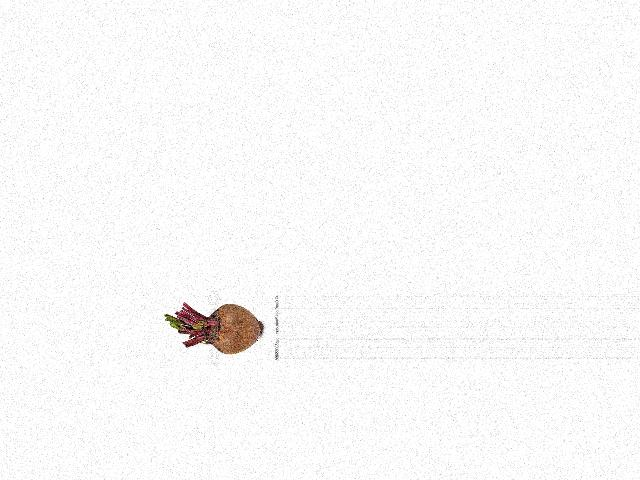beet: (164, 302, 262, 355)
